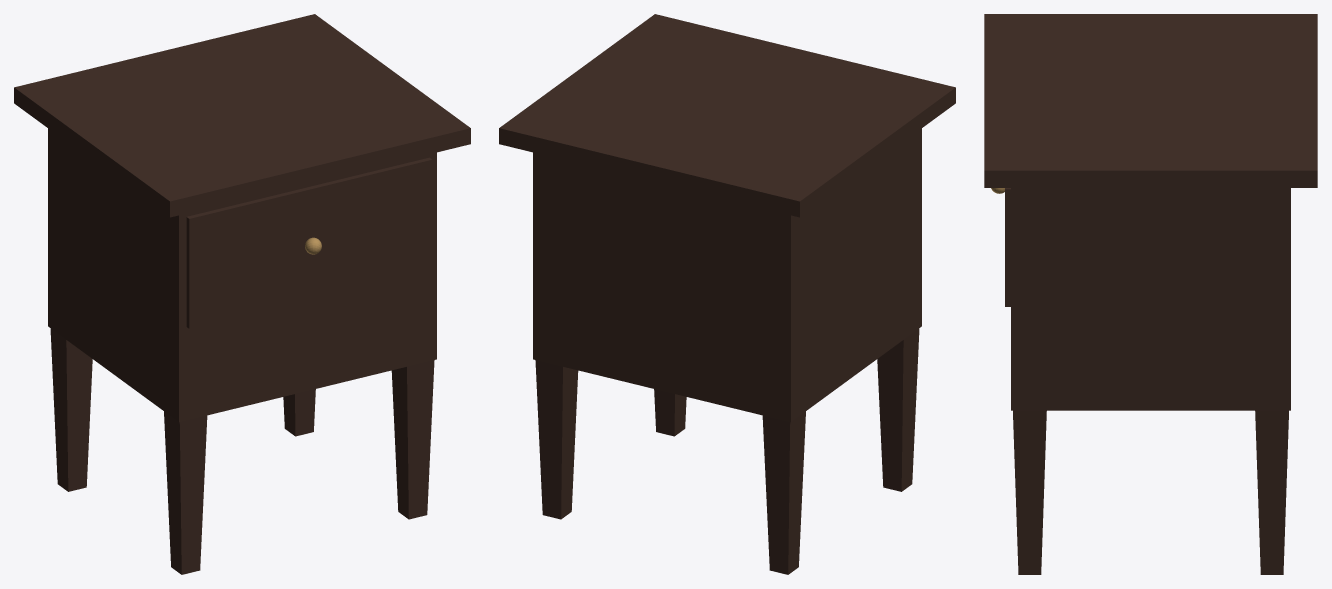
The model's file is nightstand_v3_petrus.glb.
3 renders of one model, left to right at view 1: azimuth 30°, elevation 25°; view 2: azimuth 150°, elevation 25°; view 3: azimuth 270°, elevation 25°, orthographic. The views are drawn at different scales.
Visible parts, largest first — view 1: Object_4; view 2: Object_4; view 3: Object_4.
Part boxes in pixels (x1,y1,x2,y2): Object_4: (14, 14, 470, 574); Object_4: (499, 14, 955, 574); Object_4: (984, 14, 1317, 574).
Bounding box in the file's own units: 0.49 × 0.61 × 0.44.
